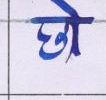e_matra: (50, 0, 83, 17)
